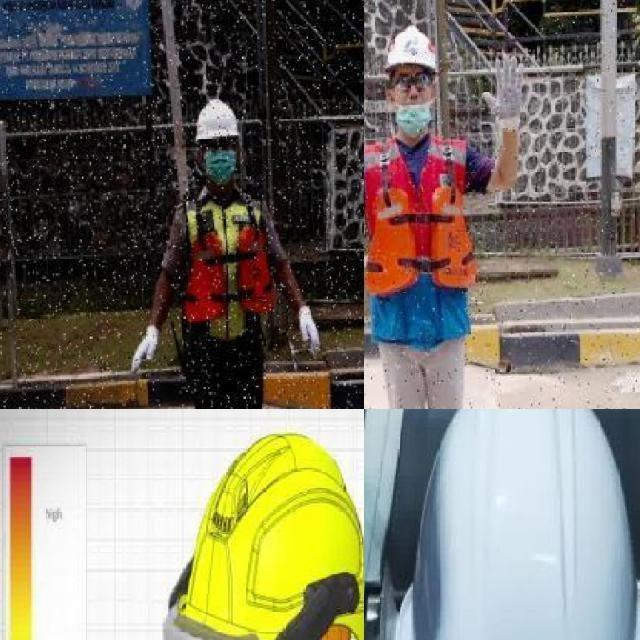apron: (480, 52, 526, 132), (130, 322, 162, 376), (294, 302, 324, 353)
